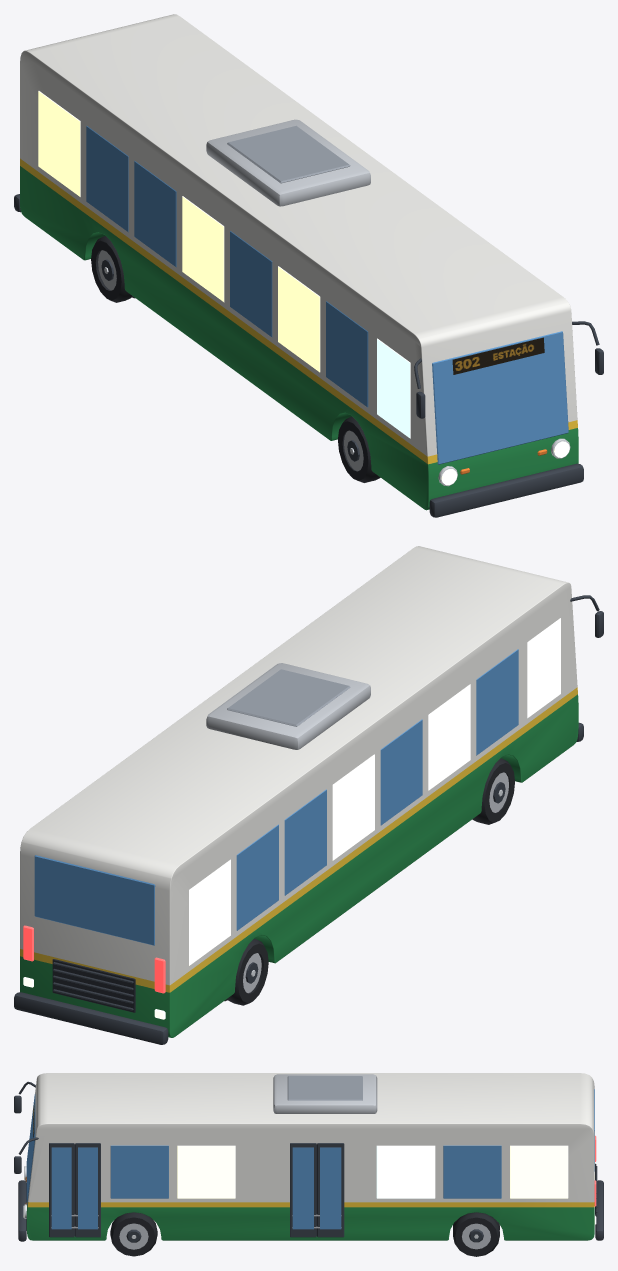
The model's file is onibus_urbano.glb.
3 views of the same model, one above another, from view 1: azimuth 30°, elevation 25°; view 2: azimuth 150°, elevation 25°; view 3: azimuth 270°, elevation 25° (orthographic). The views are drawn at different scales.
Parts seen in each view (by area): view 1: onibus_urbano, roda_2, roda_1; view 2: onibus_urbano, roda_2, roda_1; view 3: onibus_urbano, porta_onibus_4, porta_onibus_3, porta_onibus_1, porta_onibus_2, roda_4, roda_3.
Part boxes in pixels (<box>): onibus_urbano: <box>14,14,603,517</box>; roda_2: <box>91,236,135,302</box>; roda_1: <box>338,416,380,482</box>; onibus_urbano: <box>14,546,603,1044</box>; roda_2: <box>224,938,268,1005</box>; roda_1: <box>472,758,514,824</box>; onibus_urbano: <box>14,1073,603,1241</box>; porta_onibus_4: <box>317,1143,344,1237</box>; porta_onibus_3: <box>290,1143,316,1237</box>; porta_onibus_1: <box>49,1143,74,1237</box>; porta_onibus_2: <box>75,1143,100,1237</box>; roda_4: <box>453,1212,499,1256</box>; roda_3: <box>110,1212,157,1256</box>.
Size of the model in its own units: 3.13 by 3.4 by 12.49.
Materials: 7 (2 with a texture image).
